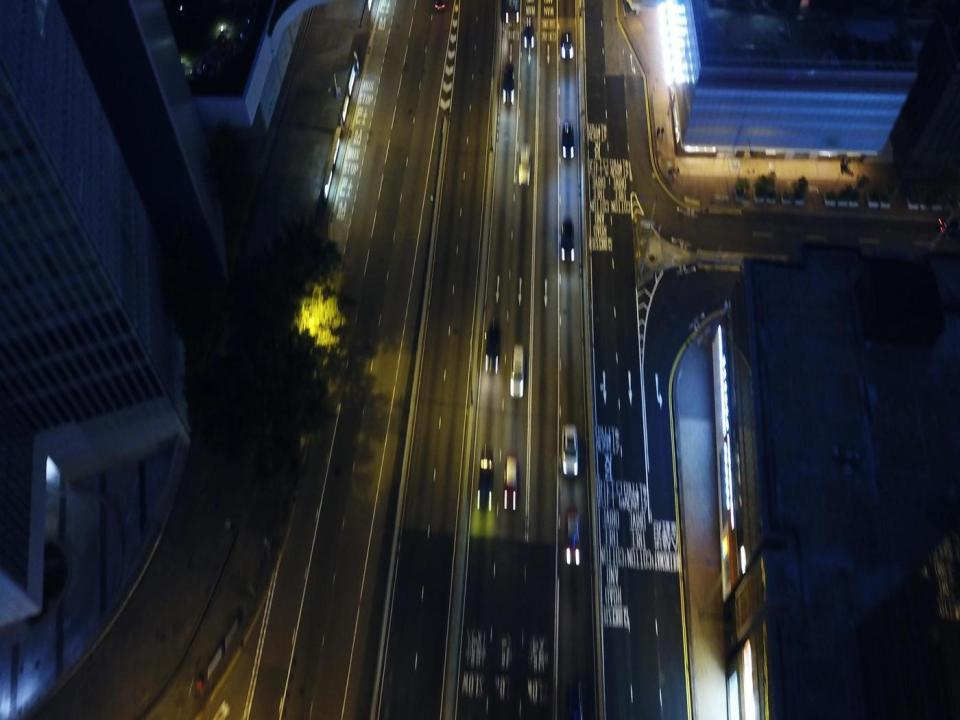car: (477, 458, 493, 511), (562, 423, 578, 476), (503, 453, 517, 510), (565, 508, 579, 565), (486, 324, 499, 375), (561, 218, 575, 262), (519, 146, 531, 187), (502, 65, 514, 105), (562, 122, 574, 159), (523, 17, 534, 48), (506, 0, 518, 23)
van: (509, 344, 524, 398), (561, 29, 572, 58)
